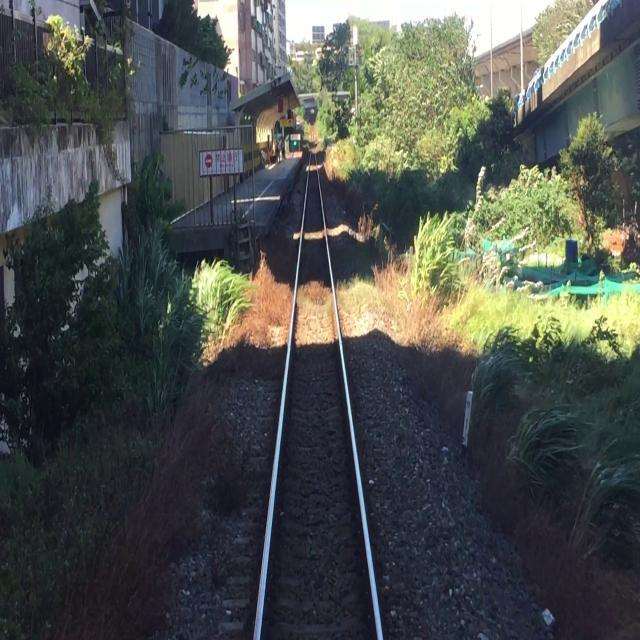track: (247, 150, 389, 640)
